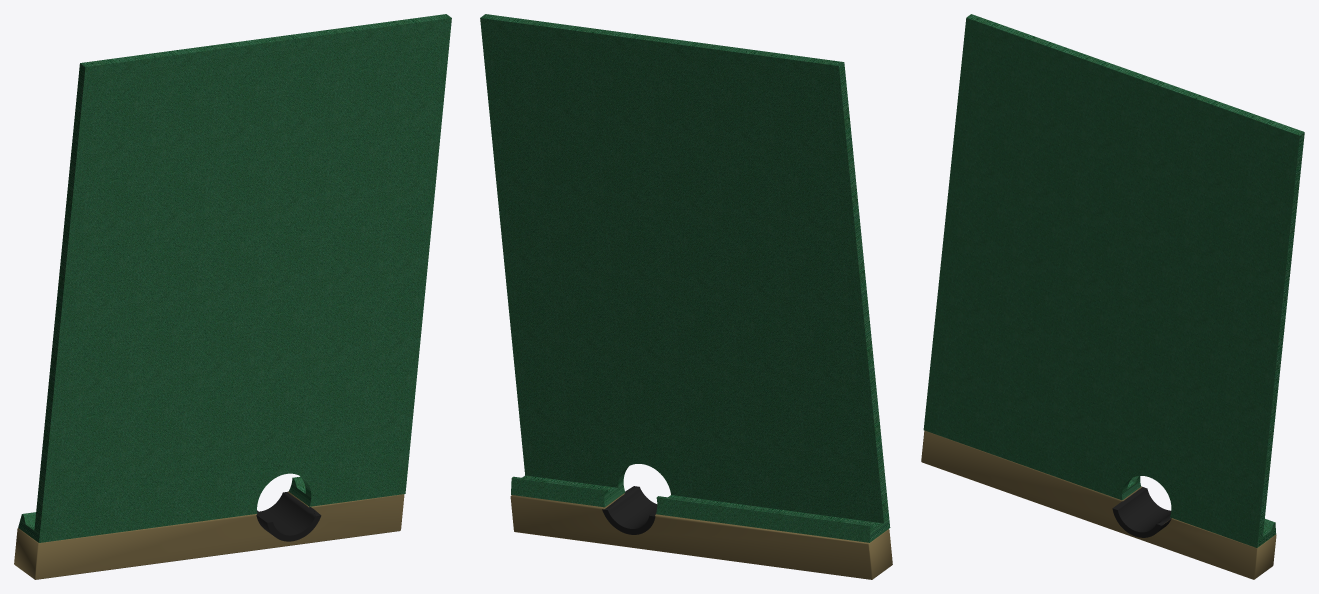
The model's file is table.gltf.
3 views of the same model, side by side, from view 1: azimuth 30°, elevation 25°; view 2: azimuth 150°, elevation 25°; view 3: azimuth 330°, elevation 25° (orthographic). The views are drawn at different scales.
Parts seen in each view (by area): view 1: table, wood, hole; view 2: table, wood, hole; view 3: table, wood, hole.
Part boxes in pixels (x1,y1,x2,y2): table: (18, 14, 451, 542); wood: (14, 491, 404, 579); hole: (256, 492, 321, 541); table: (480, 14, 890, 542); wood: (510, 493, 892, 579); hole: (602, 486, 657, 534); table: (923, 14, 1304, 547); wood: (921, 430, 1276, 579); hole: (1112, 487, 1171, 537).
Bounding box in the file's own units: 3343 × 4150 × 453.
3 materials, 1 textured.
